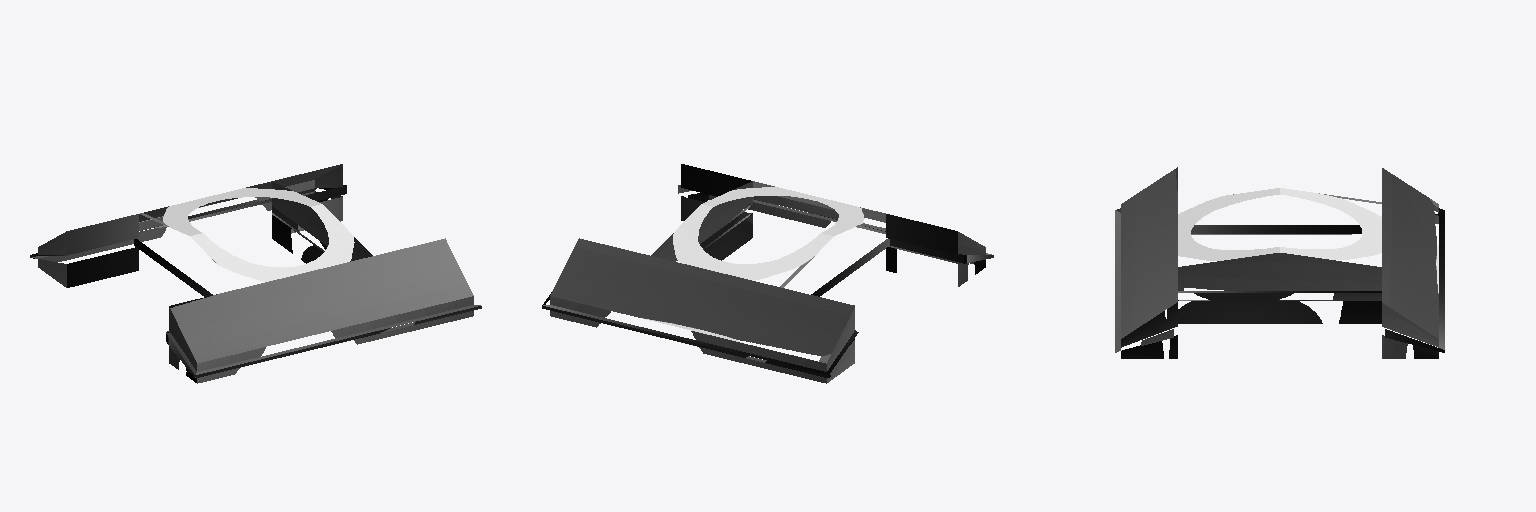
3 views of the same model, side by side, from view 1: azimuth 30°, elevation 25°; view 2: azimuth 150°, elevation 25°; view 3: azimuth 270°, elevation 25° (orthographic).
Visible parts, largest first — view 1: Cube.012; view 2: Cube.012; view 3: Cube.012.
Part boxes in pixels (x1,y1,x2,y2): Cube.012: (30, 164, 481, 383); Cube.012: (542, 164, 993, 383); Cube.012: (1115, 167, 1444, 358).
Bounding box in the file's own units: 0.8855 × 0.2117 × 0.8816.
Materials: 1 (1 with a texture image).